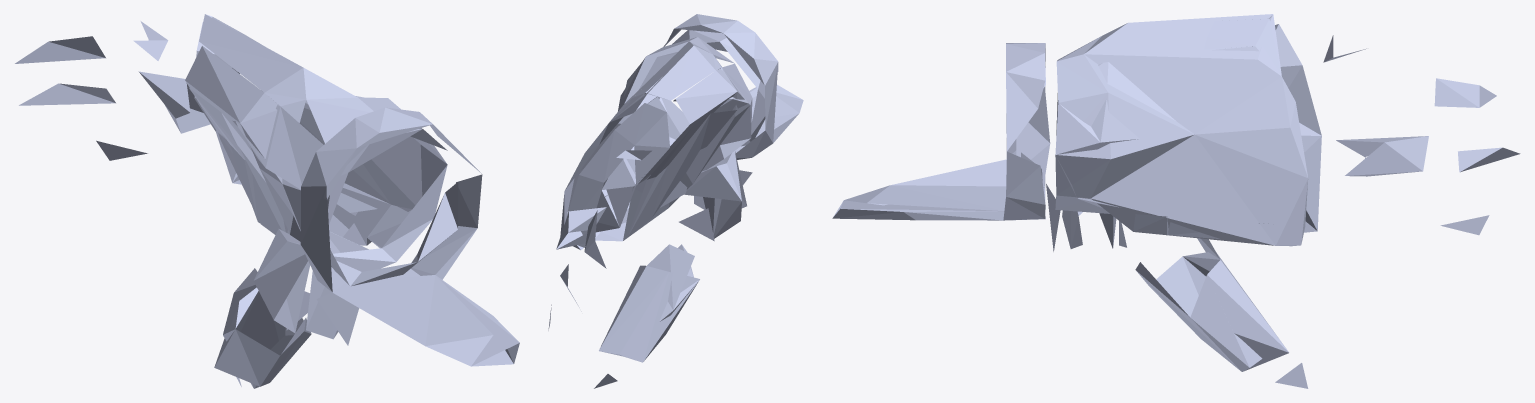
The model's file is agvl.SLDASM_cclc13_visual_vis_1.dae.
The picture shows the model from 3 angles, left to right: view 1: azimuth 30°, elevation 25°; view 2: azimuth 150°, elevation 25°; view 3: azimuth 270°, elevation 25°; orthographic projection. The views are drawn at different scales.
Visible parts, largest first — view 1: node; view 2: node; view 3: node.
Part boxes in pixels (box(x1,y1,x2,y2)): node: box(15, 14, 519, 388); node: box(548, 14, 803, 388); node: box(832, 14, 1520, 388).
Size of the model in its own units: 0.0857 by 0.1571 by 0.2785.
